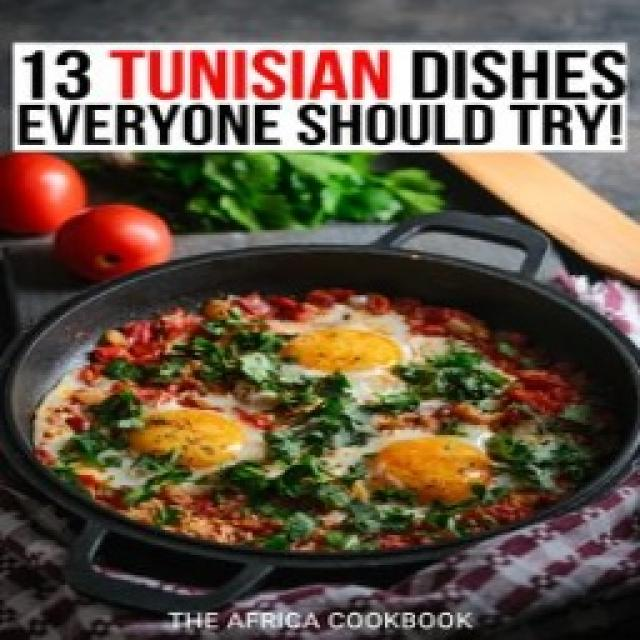Chakchouka: (25, 252, 630, 565)
